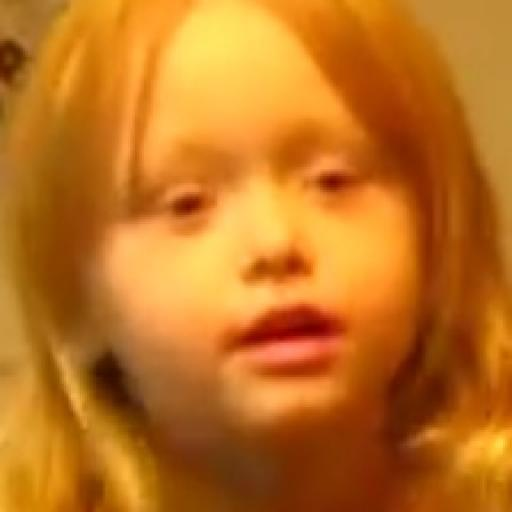Autism: (93, 30, 430, 456)
